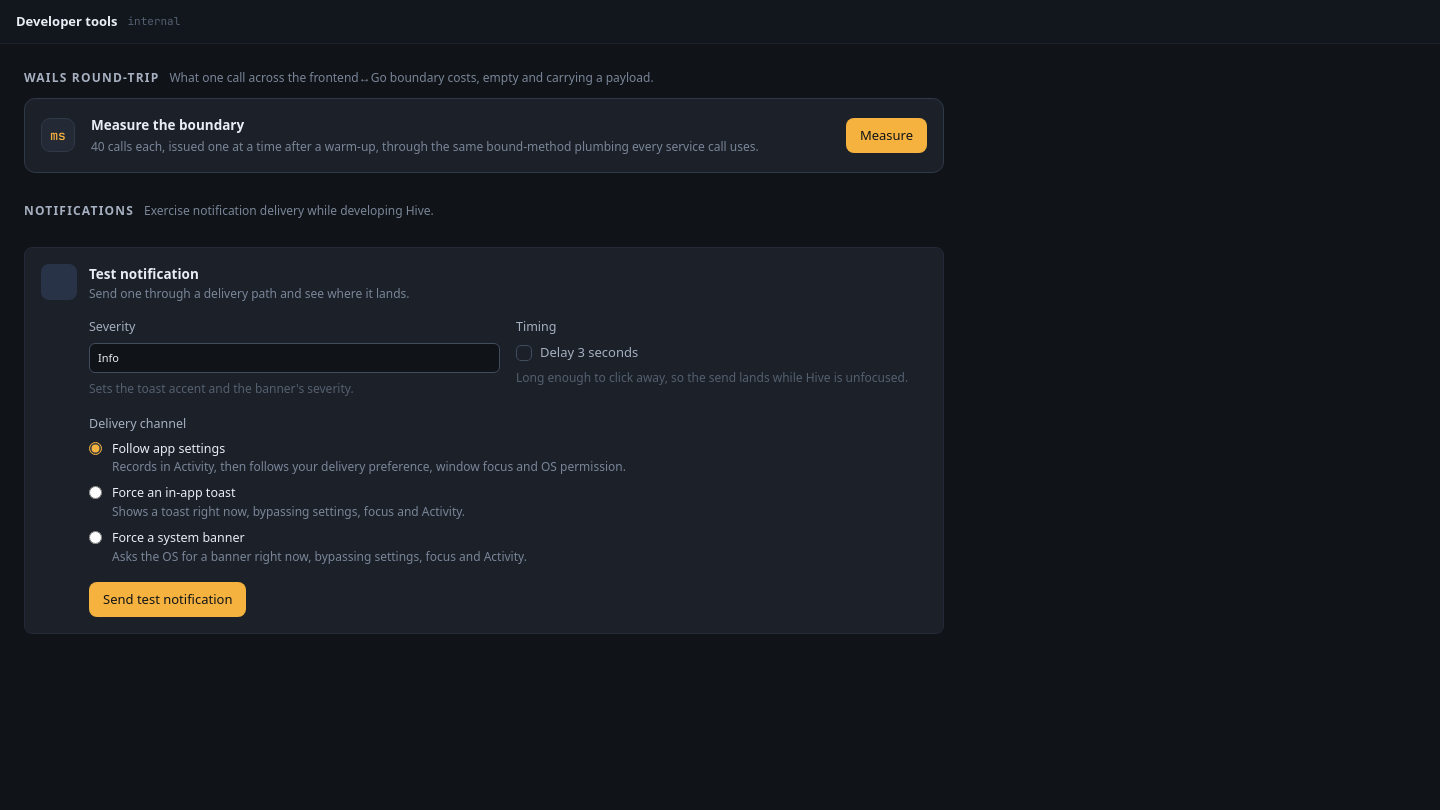
Test case: DevView notification test card › sends auto notifications through useNotify and reports the toast it surfaced as
What coordinates should you click on to do the following:
click the button "Info"
I would click on:
 (108, 357)
Its box is x1=89 y1=343 x2=500 y2=373.
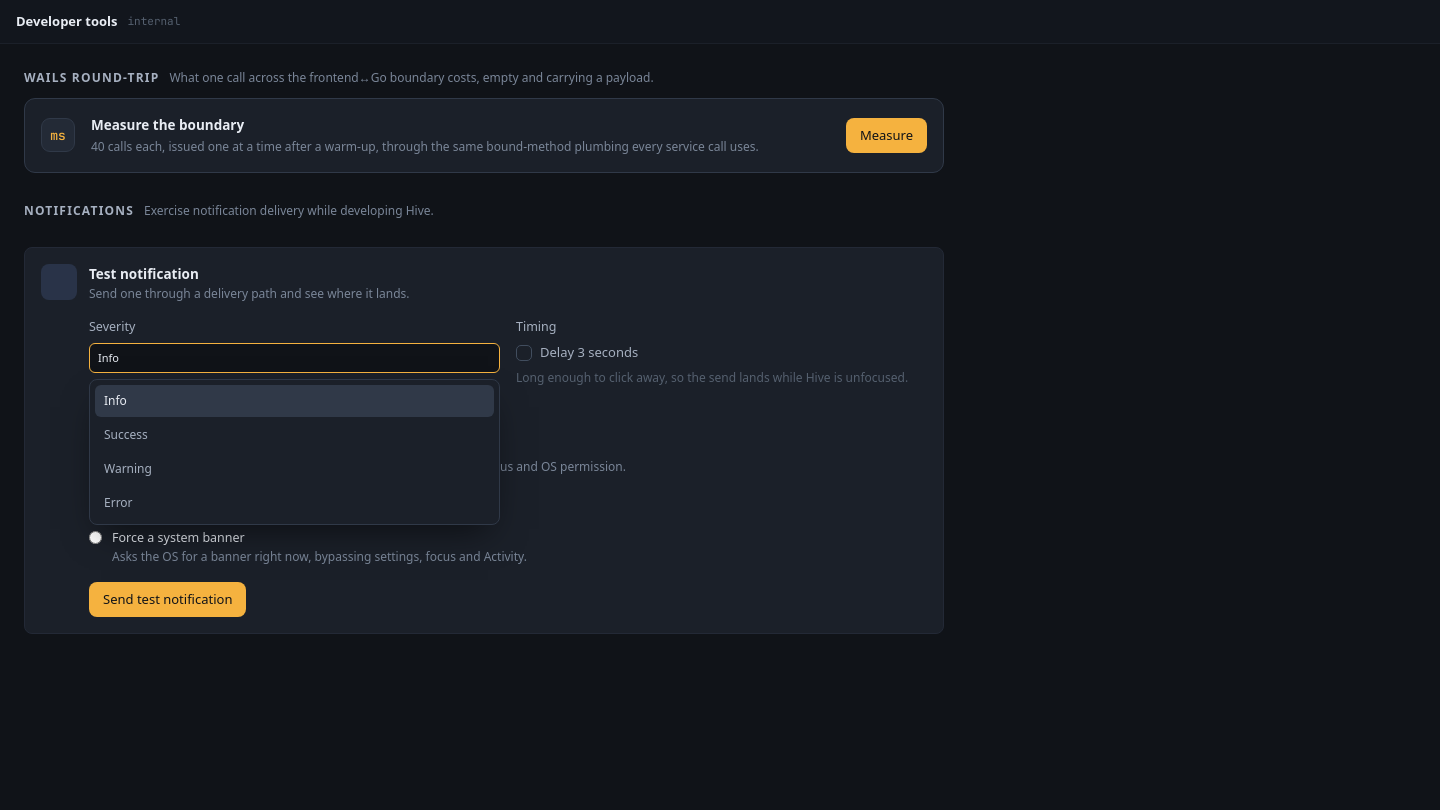
What coordinates should you click on to do the following:
click the button "Success"
I would click on:
 (126, 435)
Its box is x1=95 y1=419 x2=494 y2=451.
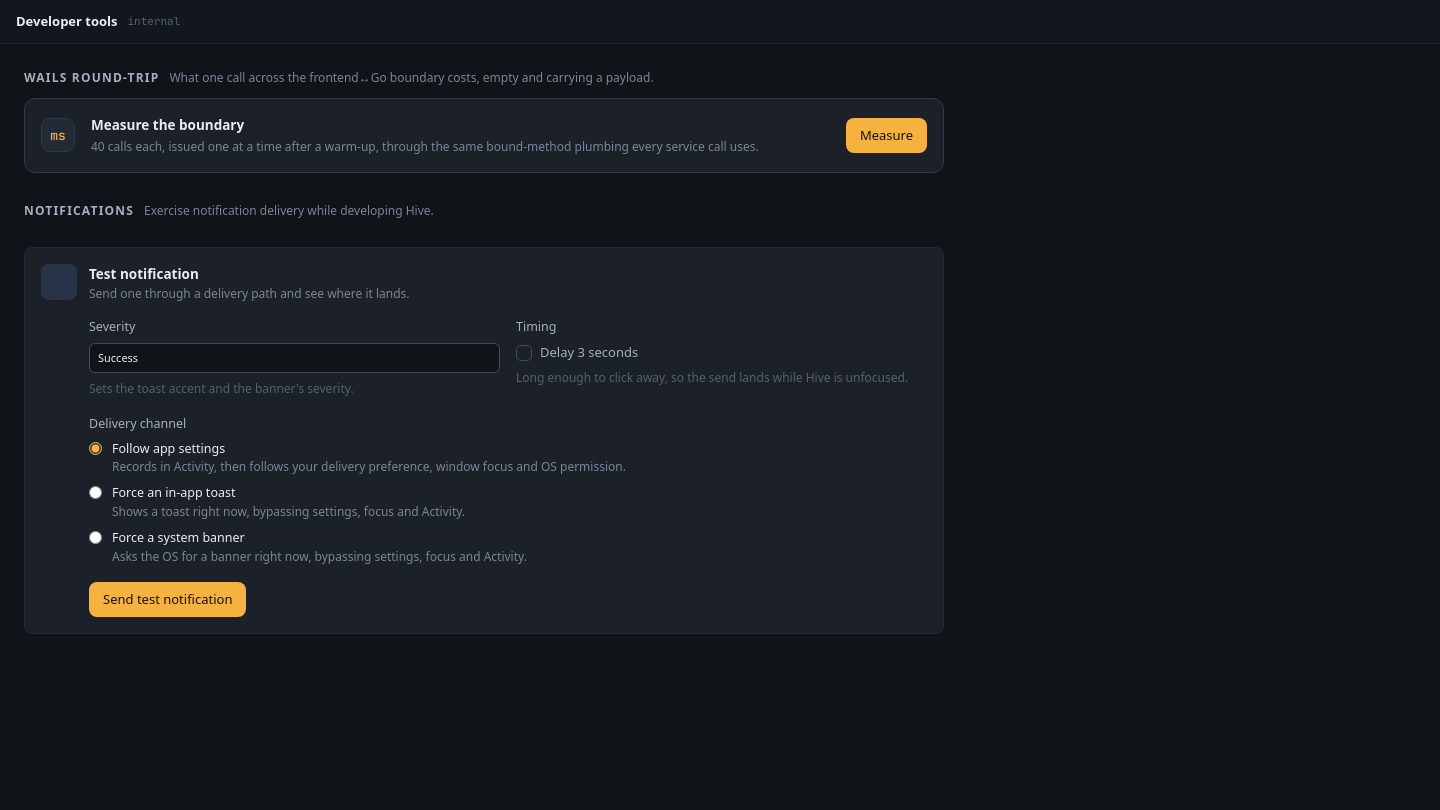
What coordinates should you click on to do the following:
click the button with test id "dev-notification-send"
I would click on:
 (168, 600)
Its box is x1=89 y1=582 x2=246 y2=617.
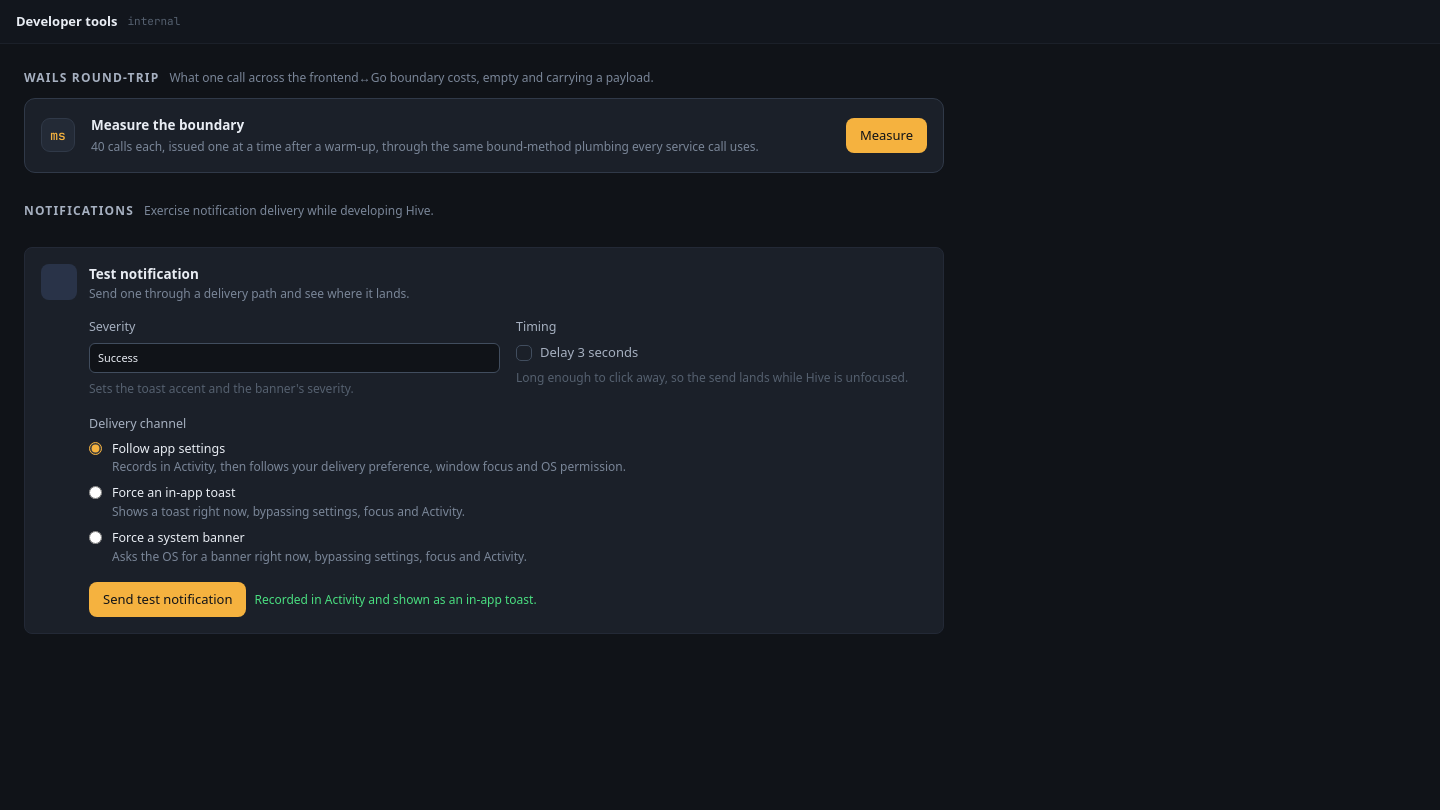
Check: the text with test id "dev-notification-result" reads "Recorded in Activity and shown as an in-app toast.", box x1=254 y1=591 x2=537 y2=608
